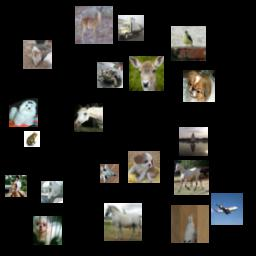airplane: (211, 193, 243, 225), (100, 164, 119, 183)
bird: (171, 26, 206, 61)
cat: (171, 205, 209, 243)
deer: (75, 6, 113, 44), (129, 56, 164, 91)
dog: (128, 151, 160, 183), (183, 70, 215, 102), (23, 40, 52, 69), (33, 216, 62, 245), (9, 98, 38, 127)
frog: (97, 62, 123, 88), (24, 131, 40, 147)
ship: (179, 127, 208, 156)
truck: (118, 15, 144, 41), (41, 181, 63, 203)
